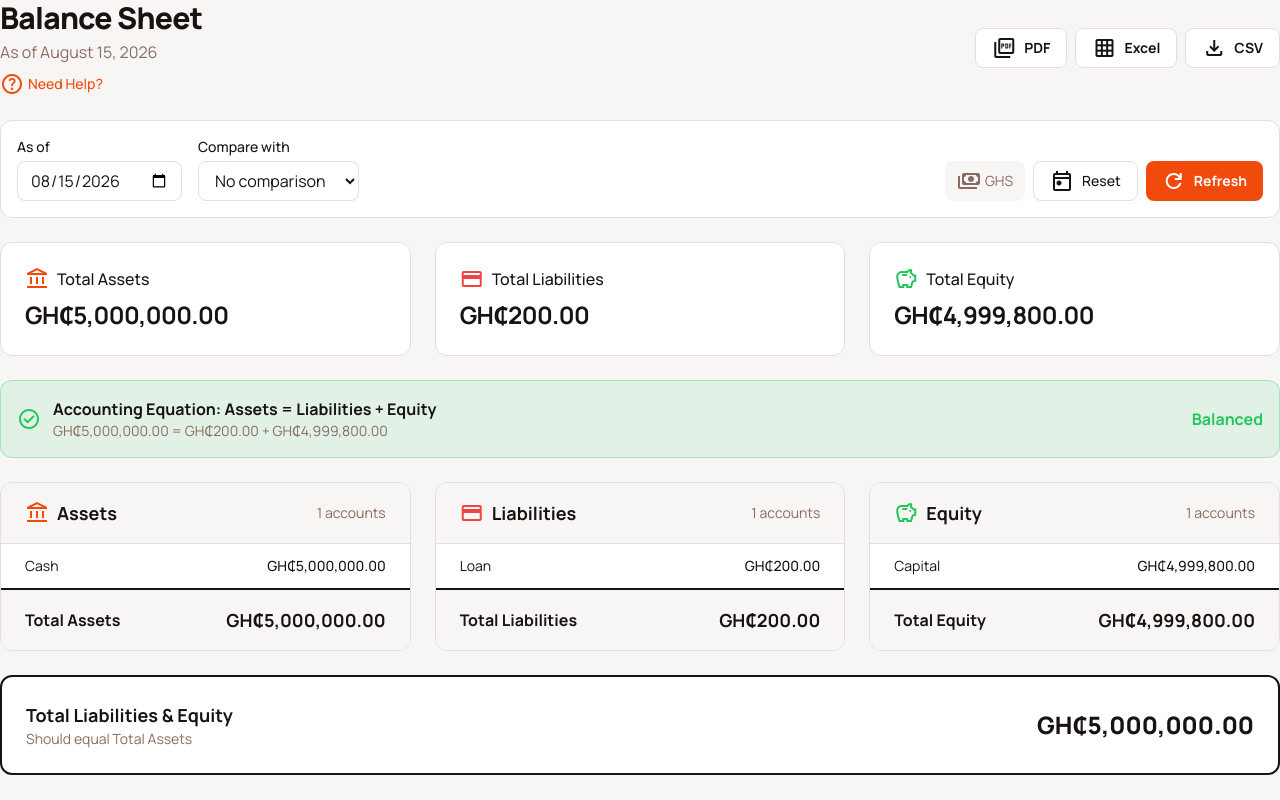
Test: Balance Sheet in the shell › compares with the same date a year earlier
expect the text with test id "balance-sheet-total-assets" reads "GH₵5,000,000.00": met, box [25,298,228,331]
Select "Previous year" in the dropdown with test id "balance-sheet-comparison": (278, 181) [198,161,359,201]
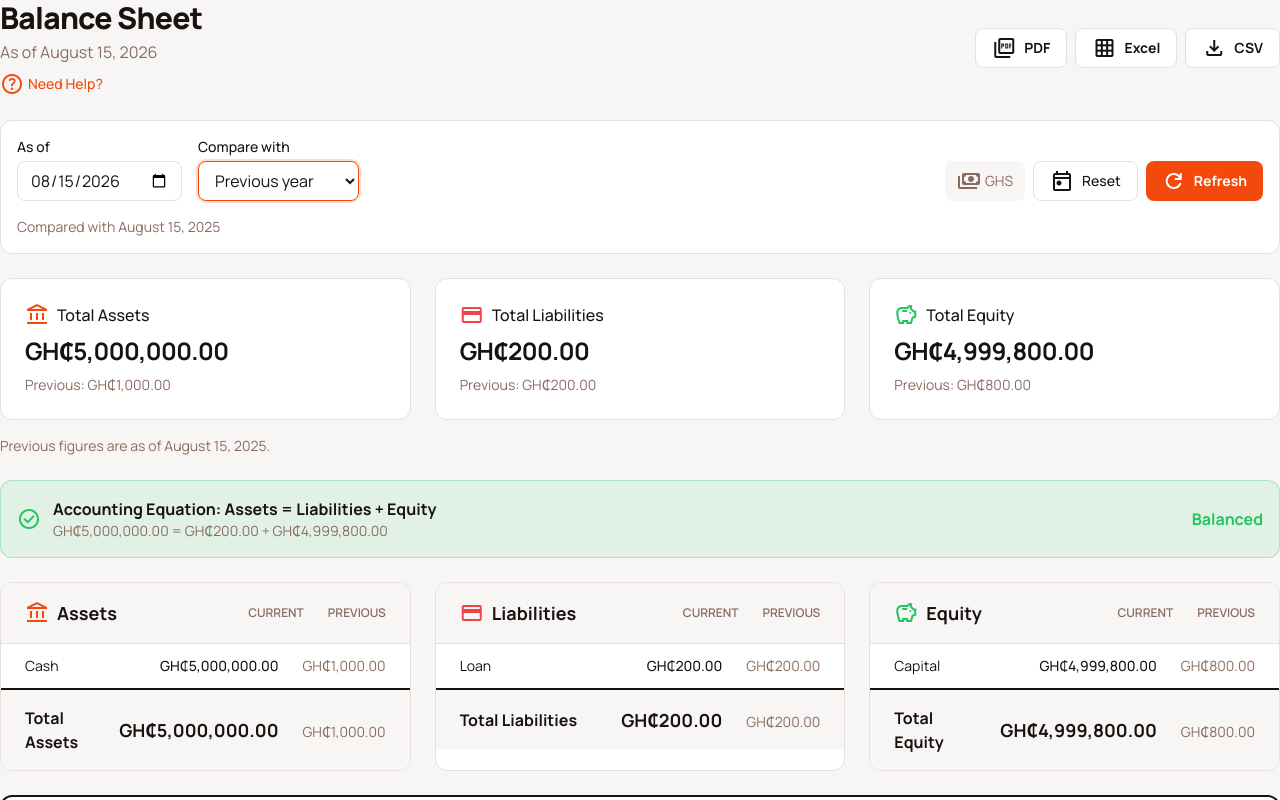
expect the text with test id "balance-sheet-total-assets-previous" shows "GH₵1,000.00": met, box [88,375,171,394]
expect the text with test id "assets-item-0-previous" reads "GH₵1,000.00": met, box [302,656,386,675]
